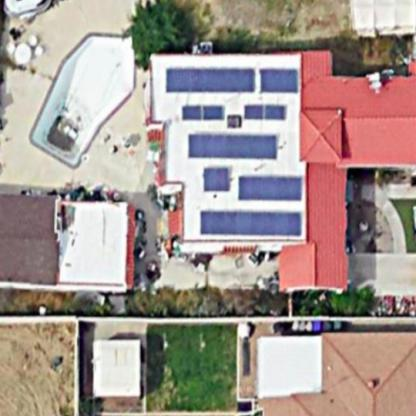solar_panel: (164, 61, 301, 98), (198, 205, 308, 246), (186, 128, 282, 163), (232, 172, 312, 203), (196, 162, 233, 193), (180, 102, 227, 124), (242, 101, 288, 123)
swimming_pool: (22, 22, 171, 176)
